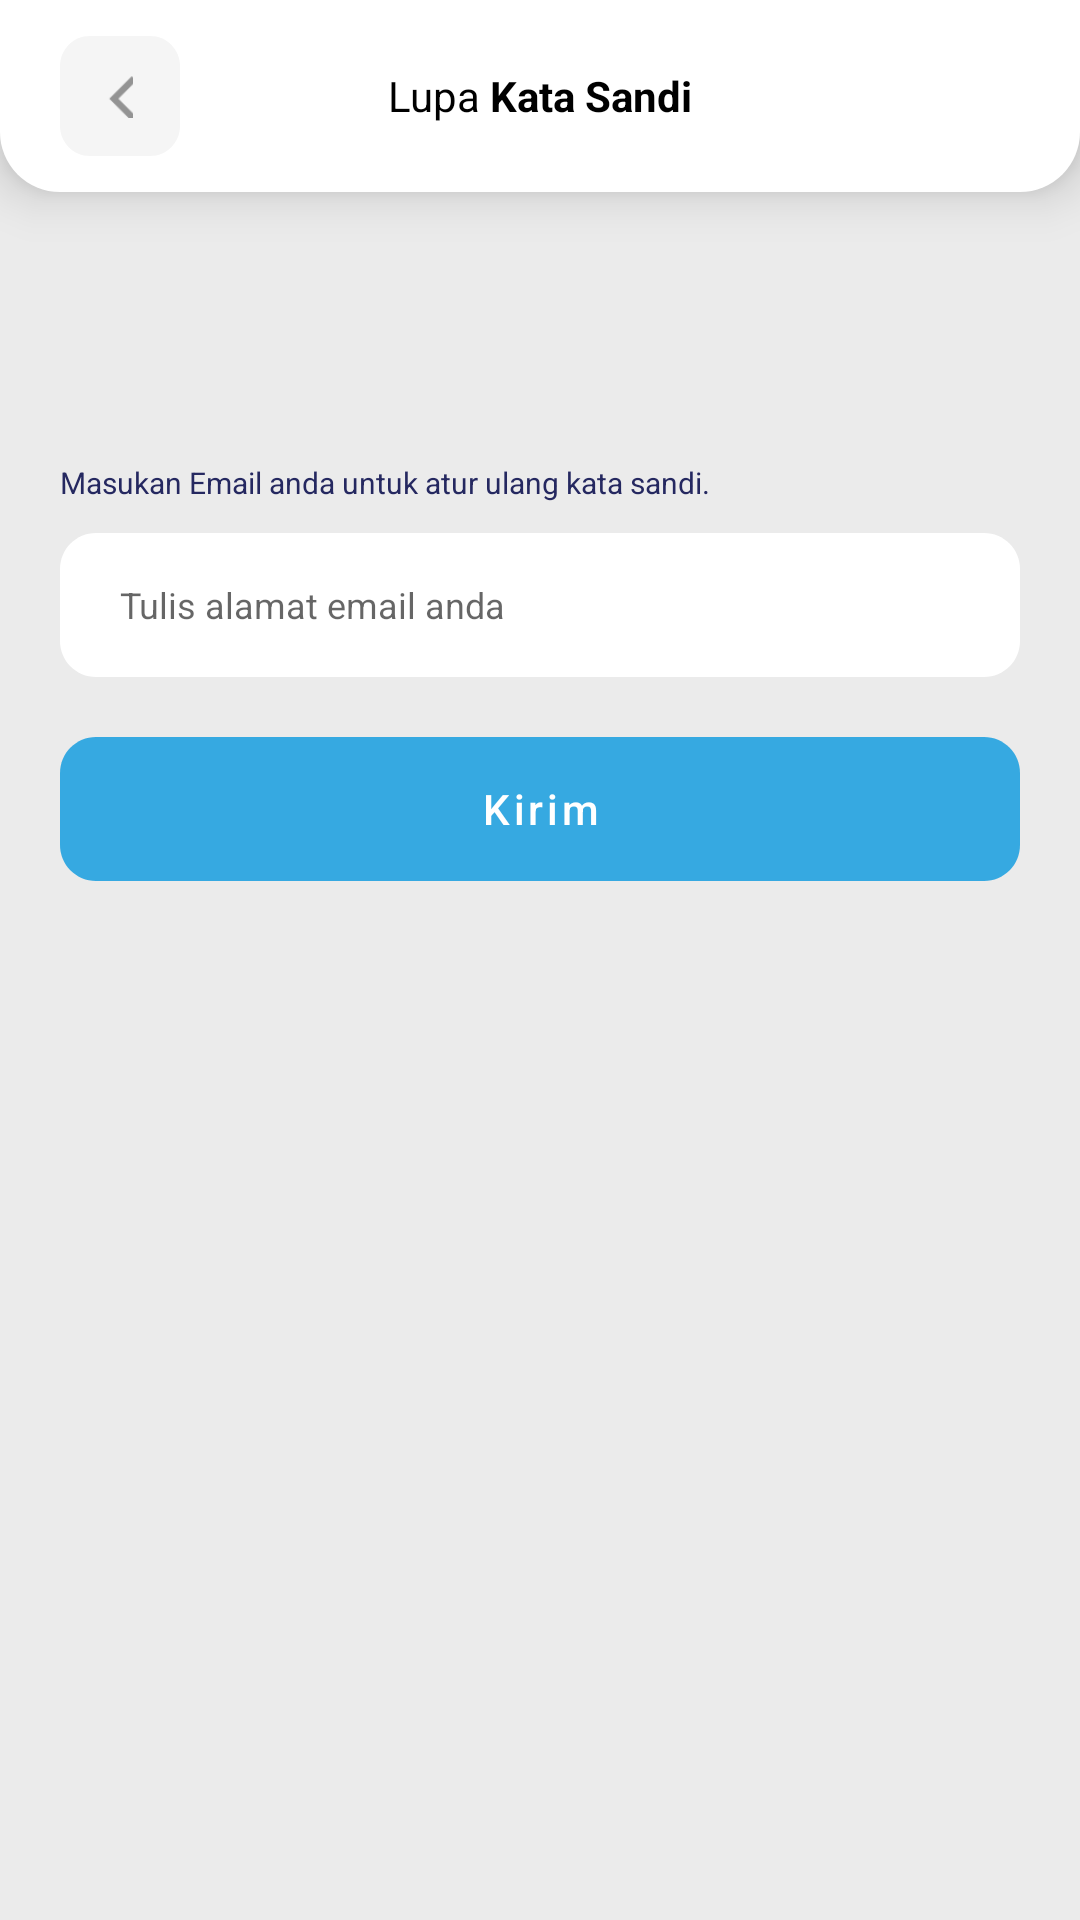

Named icons in this screenshot (1080×1920) and their centers, [x,y]:
back: [121,97]
